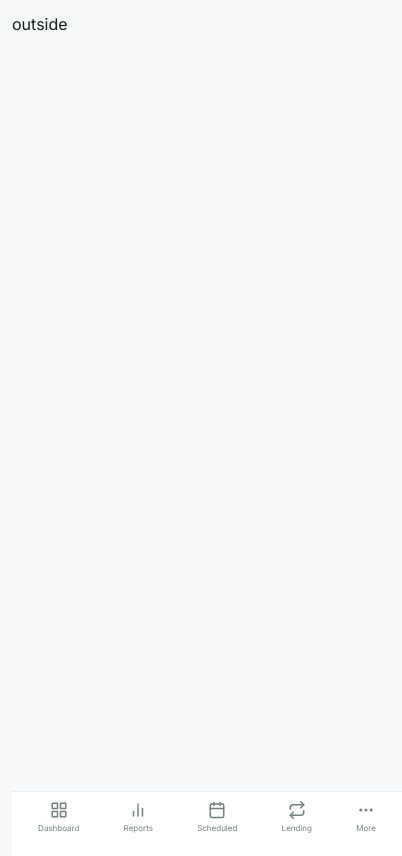
MobileNav › More menu › closes on Escape and on an outside press
Step 1. Click the button "More" → point(366, 818), box left=348, top=798, right=384, bottom=837
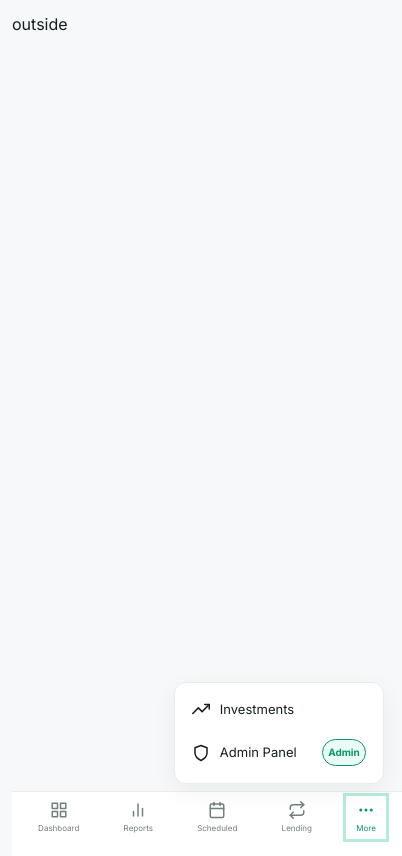
Step 2. Press Escape
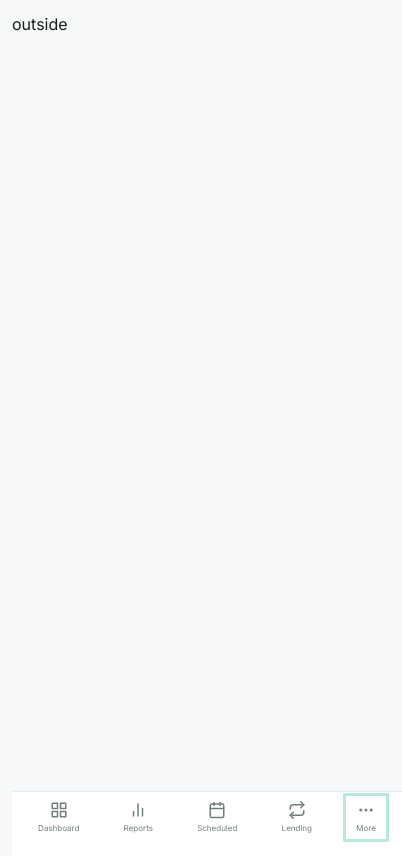
Result: the menu is gone
Step 3. Click the button "More" → point(366, 818), box left=348, top=798, right=384, bottom=837
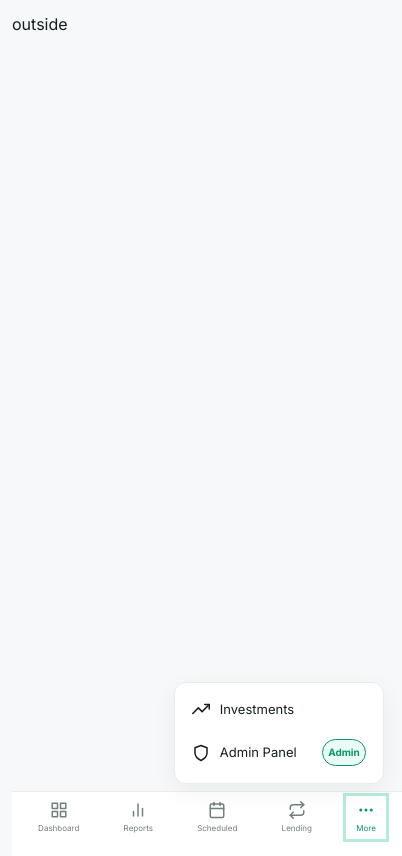
Step 4. Click the text "outside" → point(40, 24), box left=12, top=14, right=68, bottom=34
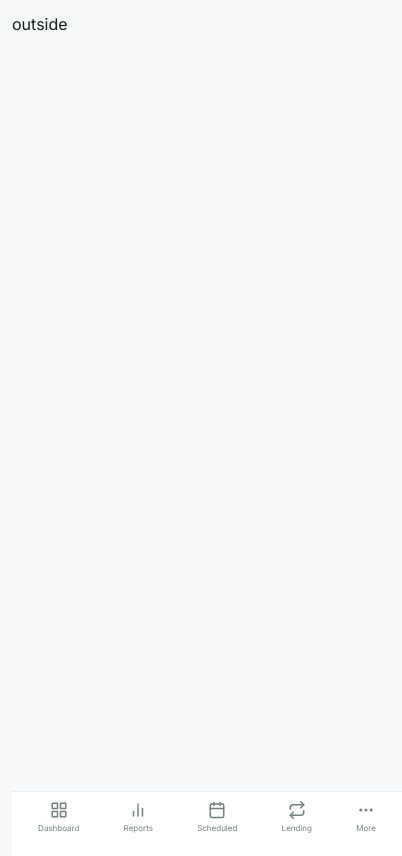
Result: the menu is gone
